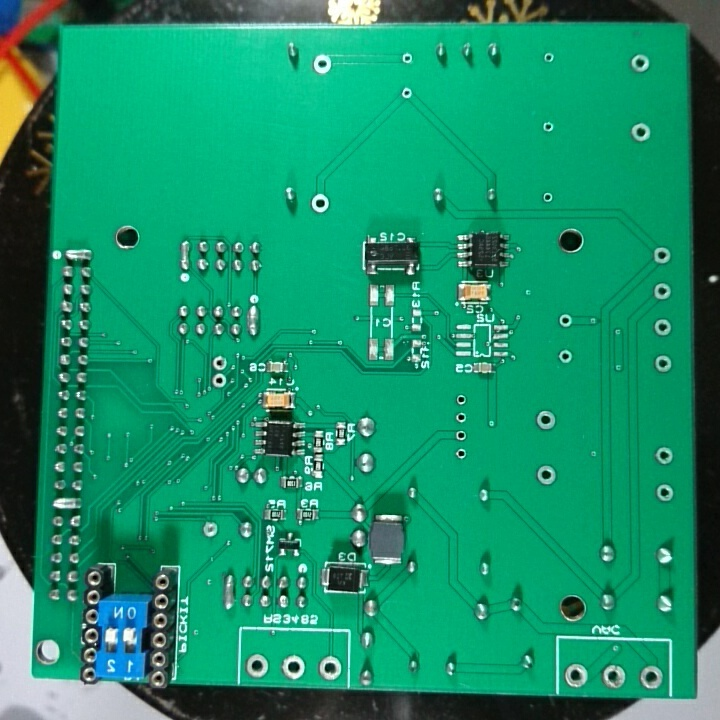F: (637, 660, 664, 695), (600, 660, 629, 690), (648, 278, 676, 307), (627, 119, 657, 146), (243, 652, 272, 679), (533, 407, 559, 437), (280, 653, 308, 680), (317, 654, 343, 683), (564, 661, 590, 690), (307, 189, 333, 218), (650, 314, 675, 342), (534, 460, 559, 487), (650, 241, 674, 269), (310, 50, 335, 76), (651, 352, 675, 376), (627, 52, 650, 77), (553, 310, 576, 334), (653, 442, 672, 469), (655, 480, 674, 506), (556, 345, 576, 369), (200, 519, 221, 540), (208, 354, 229, 372), (450, 443, 470, 461), (398, 83, 416, 103), (211, 371, 227, 392), (397, 50, 416, 66), (452, 409, 468, 427), (540, 117, 556, 135), (454, 390, 469, 409), (539, 189, 556, 205), (541, 49, 556, 67), (454, 426, 469, 443)
P: (220, 571, 237, 612), (245, 303, 264, 339), (50, 494, 84, 512), (62, 246, 95, 263), (178, 238, 192, 271)
